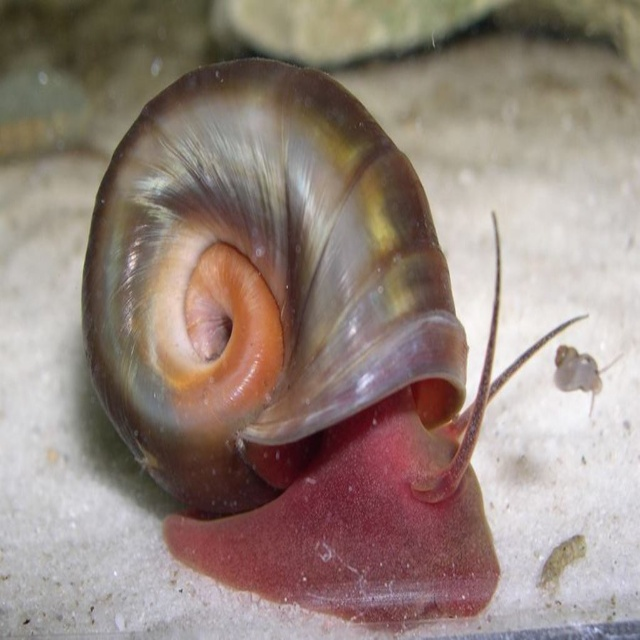Snail: (78, 56, 592, 632)
